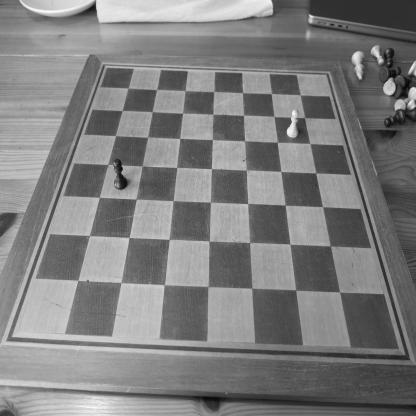black-pawn: (112, 158, 127, 191), (384, 108, 406, 128), (384, 48, 395, 68)
white-bishop: (350, 50, 366, 82)
white-pawn: (286, 109, 299, 139), (370, 44, 384, 66)
